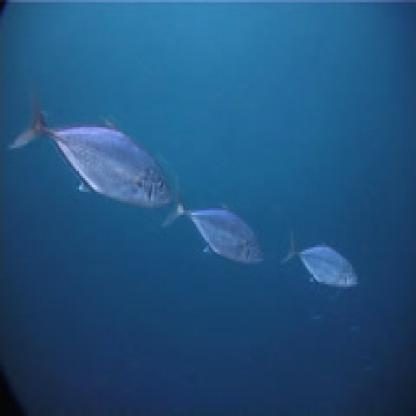Carangidae -Jacks-: (3, 63, 174, 209), (159, 179, 263, 264), (275, 220, 354, 290)
